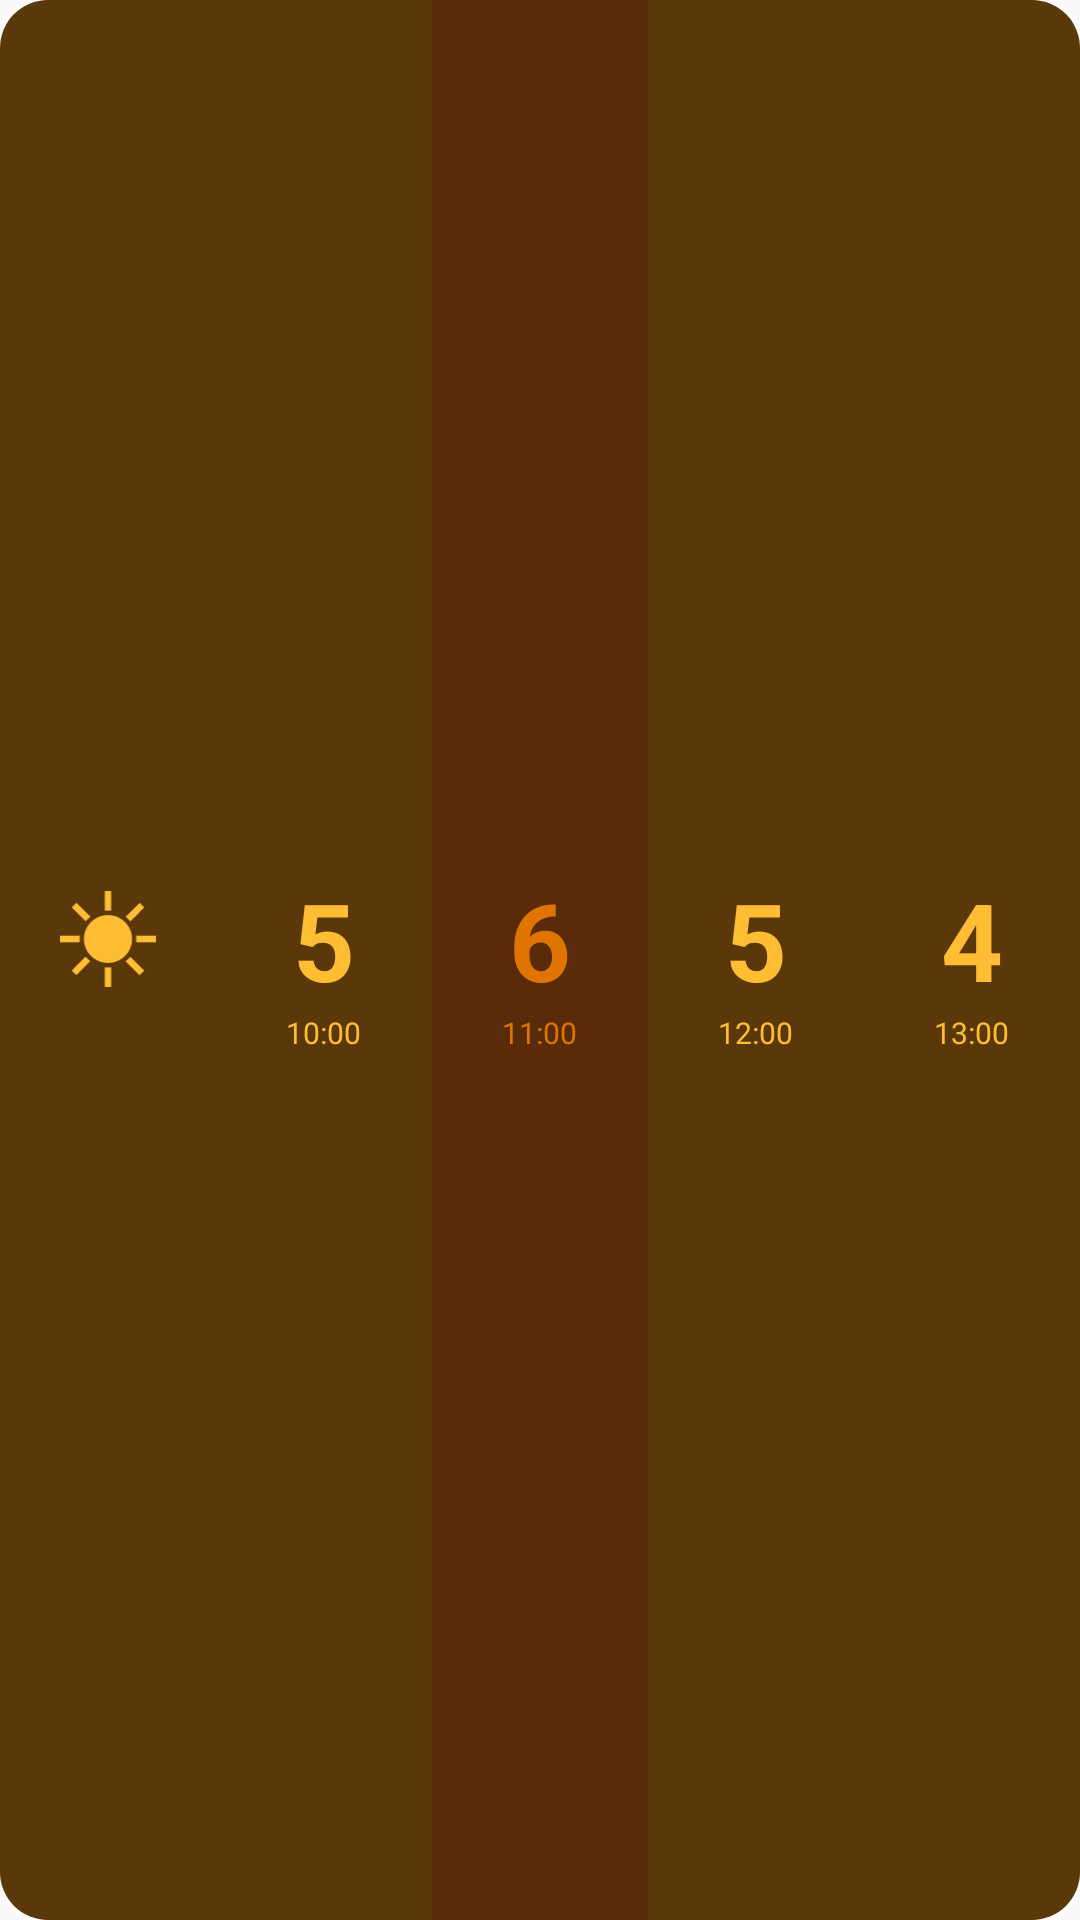

Icons on this 1080×1920 Android screen, each with the point to tap as (x=x, y=y):
sun: (x=108, y=939)
